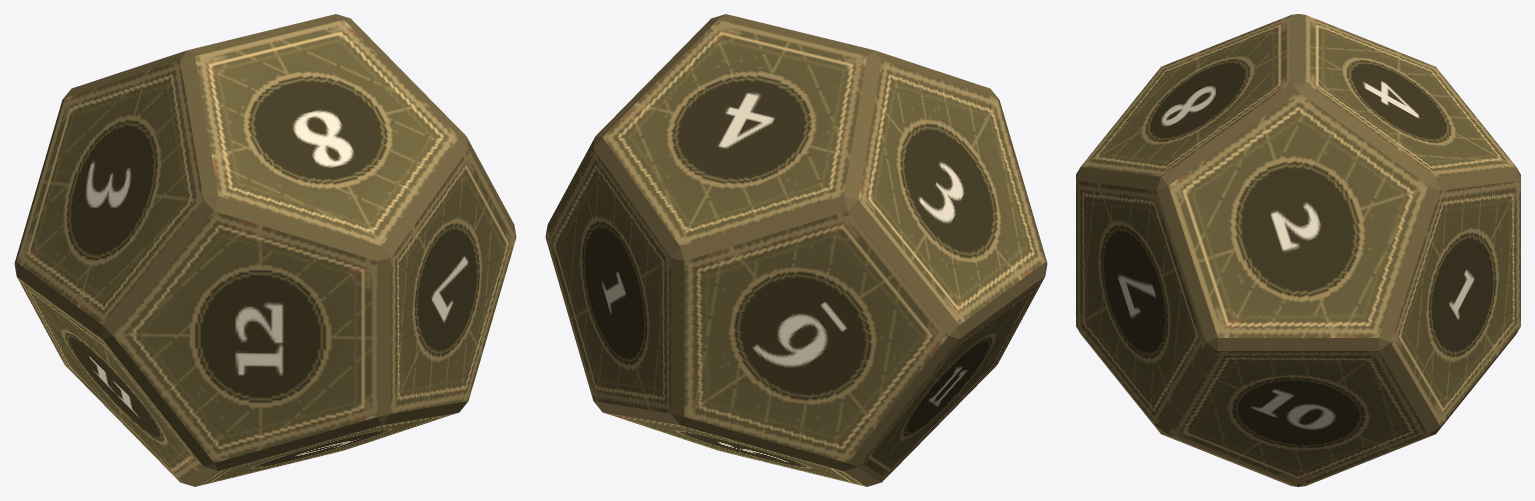
3 views of the same model, side by side, from view 1: azimuth 30°, elevation 25°; view 2: azimuth 150°, elevation 25°; view 3: azimuth 270°, elevation 25° (orthographic). The views are drawn at different scales.
Bounding box in the file's own units: 165 × 165 × 165.
1 material, 1 textured.
